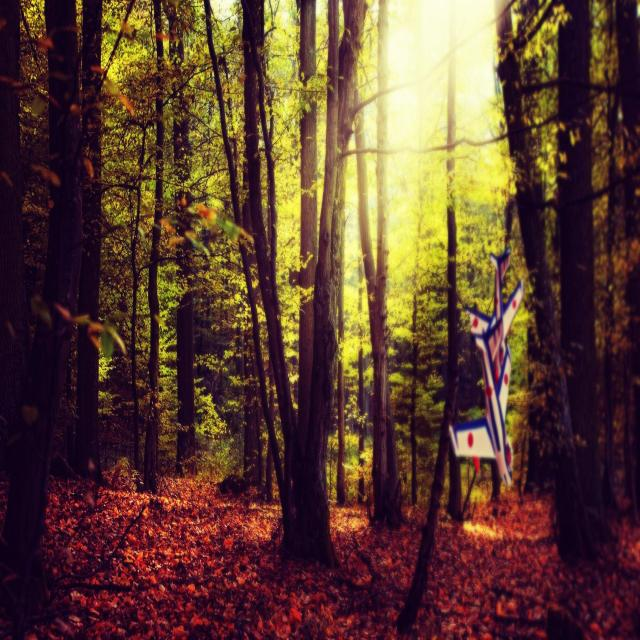airplane: (448, 246, 524, 487)
